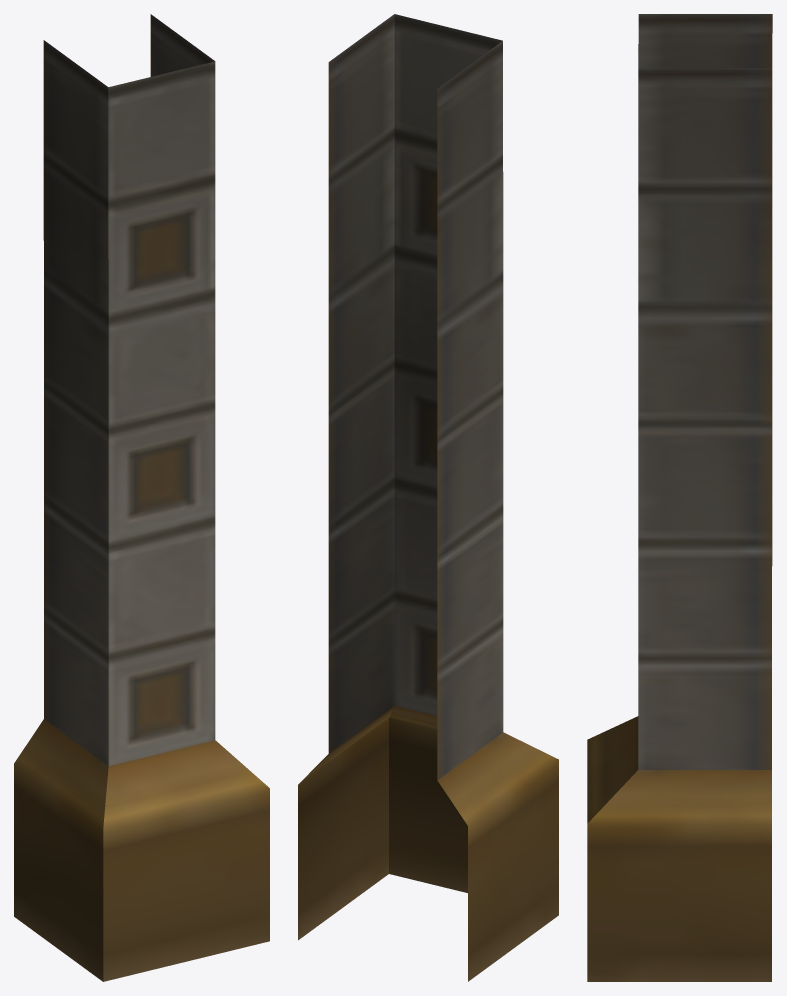
The model's file is Battle06_Pillar_07.FBX.
The picture shows the model from 3 angles, left to right: view 1: azimuth 30°, elevation 25°; view 2: azimuth 150°, elevation 25°; view 3: azimuth 270°, elevation 25°; orthographic projection. The views are drawn at different scales.
Parts seen in each view (by area): view 1: Battle06_Pillar_07; view 2: Battle06_Pillar_07; view 3: Battle06_Pillar_07.
Boxes of the visible parts, <box> form: Battle06_Pillar_07: <box>14,14,269,981</box>; Battle06_Pillar_07: <box>298,14,558,981</box>; Battle06_Pillar_07: <box>587,14,772,981</box>.
Bounding box in the file's own units: 1.56 × 7.78 × 1.45.
